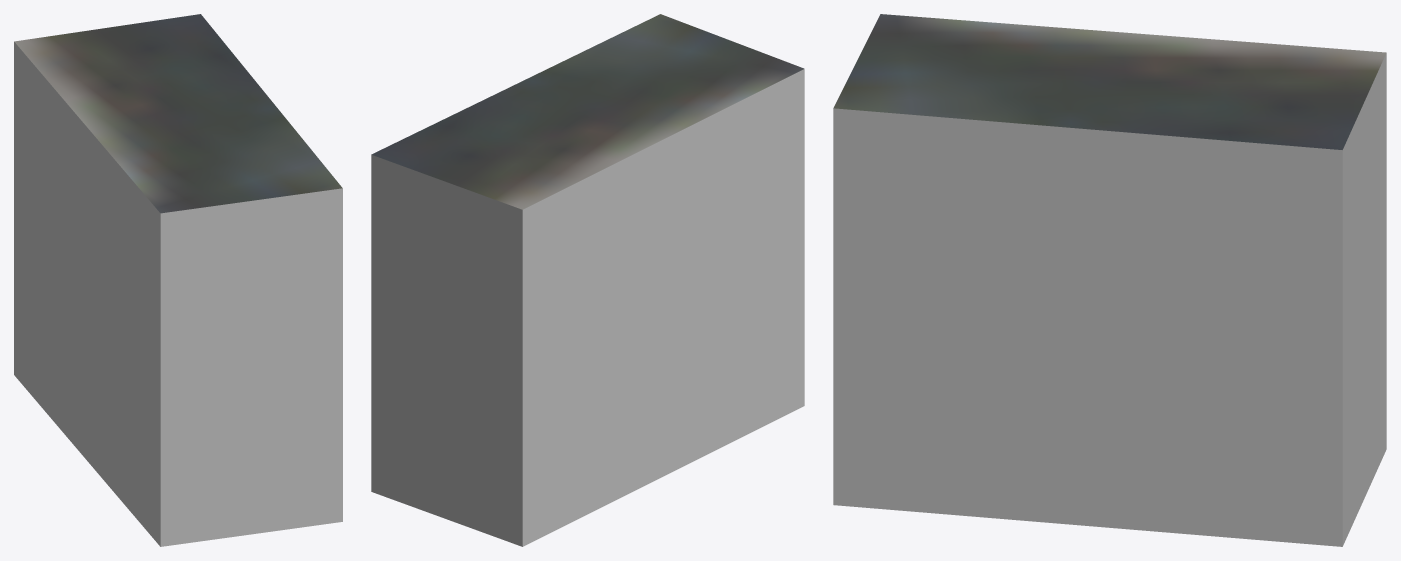
The model's file is DEBW_0010007TxaD.gltf.
The picture shows the model from 3 angles, left to right: view 1: azimuth 30°, elevation 25°; view 2: azimuth 150°, elevation 25°; view 3: azimuth 270°, elevation 25°; orthographic projection. The views are drawn at different scales.
Visible parts, largest first — view 1: Z_UP; view 2: Z_UP; view 3: Z_UP.
Part boxes in pixels (box(x1,y1,x2,y2)): Z_UP: box(14, 14, 342, 546); Z_UP: box(371, 14, 804, 546); Z_UP: box(833, 14, 1386, 546).
Size of the model in its own units: 2.05 by 2.79 by 3.52.
Materials: 2 (1 with a texture image).
